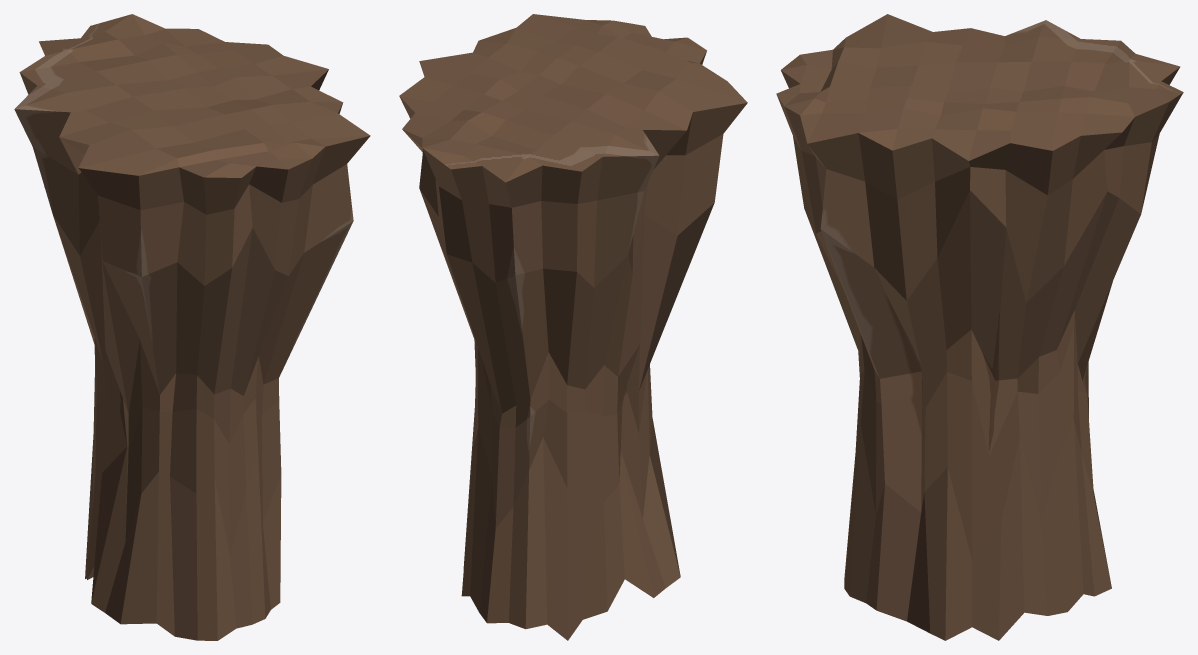
File: Pillar03.fbx
The picture shows the model from 3 angles, left to right: view 1: azimuth 30°, elevation 25°; view 2: azimuth 150°, elevation 25°; view 3: azimuth 270°, elevation 25°; orthographic projection. The views are drawn at different scales.
Visible parts, largest first — view 1: pCylinder84; view 2: pCylinder84; view 3: pCylinder84.
Part boxes in pixels (x1,y1,x2,y2): pCylinder84: (14,14,370,640); pCylinder84: (399,14,747,640); pCylinder84: (776,14,1183,640).
Size of the model in its own units: 6.46 by 10.8 by 7.58.
